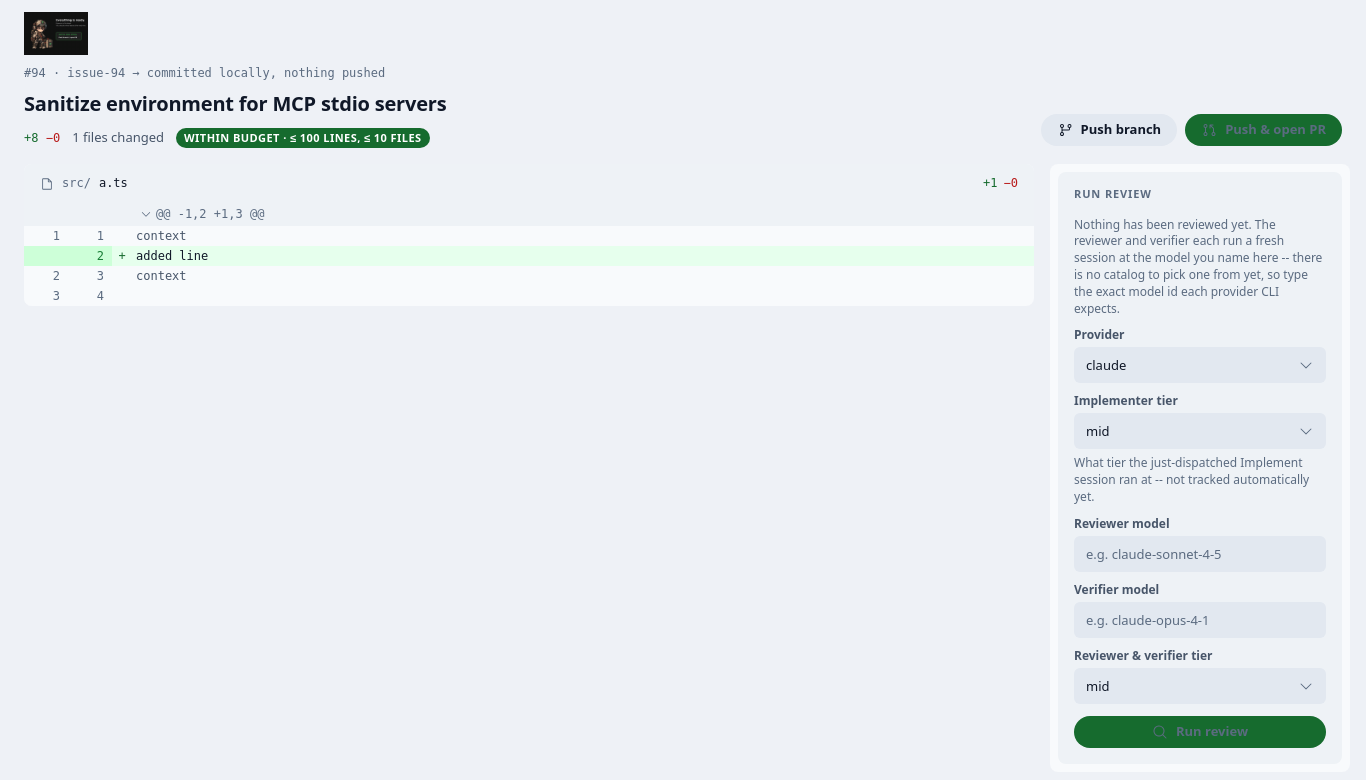
DiffReviewScreen › a real "Run review" click sends a real reviewPipenzo request built from human-typed model fields, and renders the real report in RailPanel
Expected: the text "Sanitize environment for MCP stdio servers" is shown, [24, 91, 446, 116]
Expected: the button "Run review" is disabled, [1074, 716, 1326, 748]
Type "claude-sonnet-4-5" into the field labelled "Reviewer model".
click(1200, 554); type("claude-sonnet-4-5")  # box [1074, 536, 1326, 572]
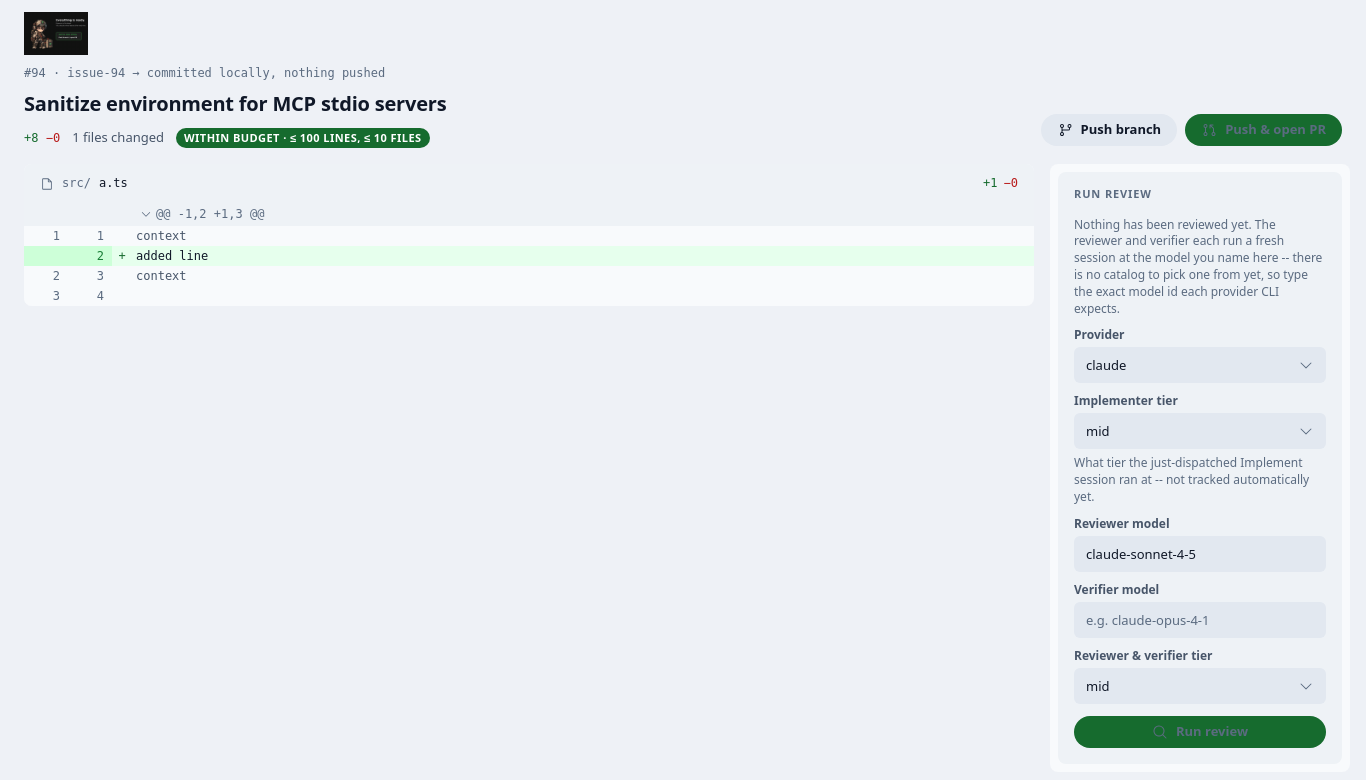
Type "claude-opus-4-1" into the field labelled "Verifier model".
click(1200, 620); type("claude-opus-4-1")  # box [1074, 602, 1326, 638]
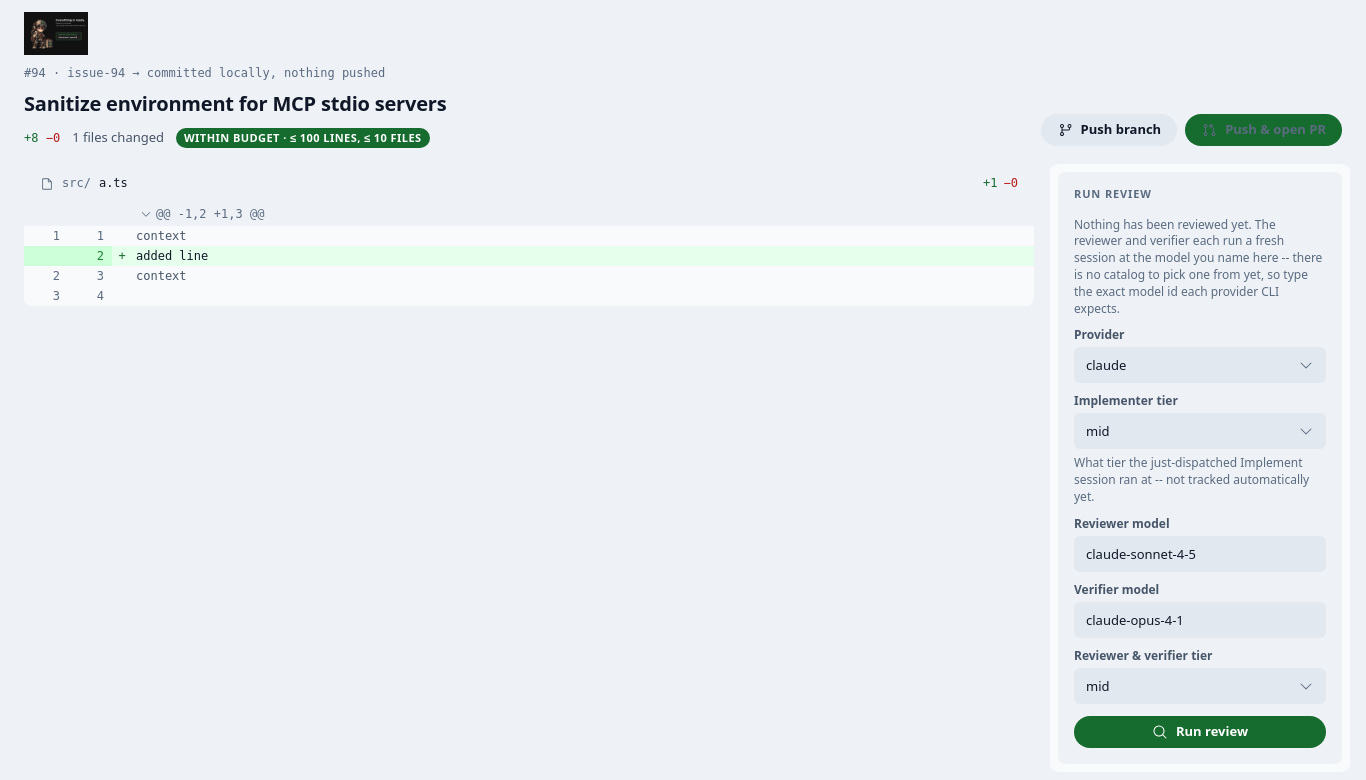
Now the button "Run review" is enabled
Click the button "Run review".
click(1200, 732)  # box [1074, 716, 1326, 748]
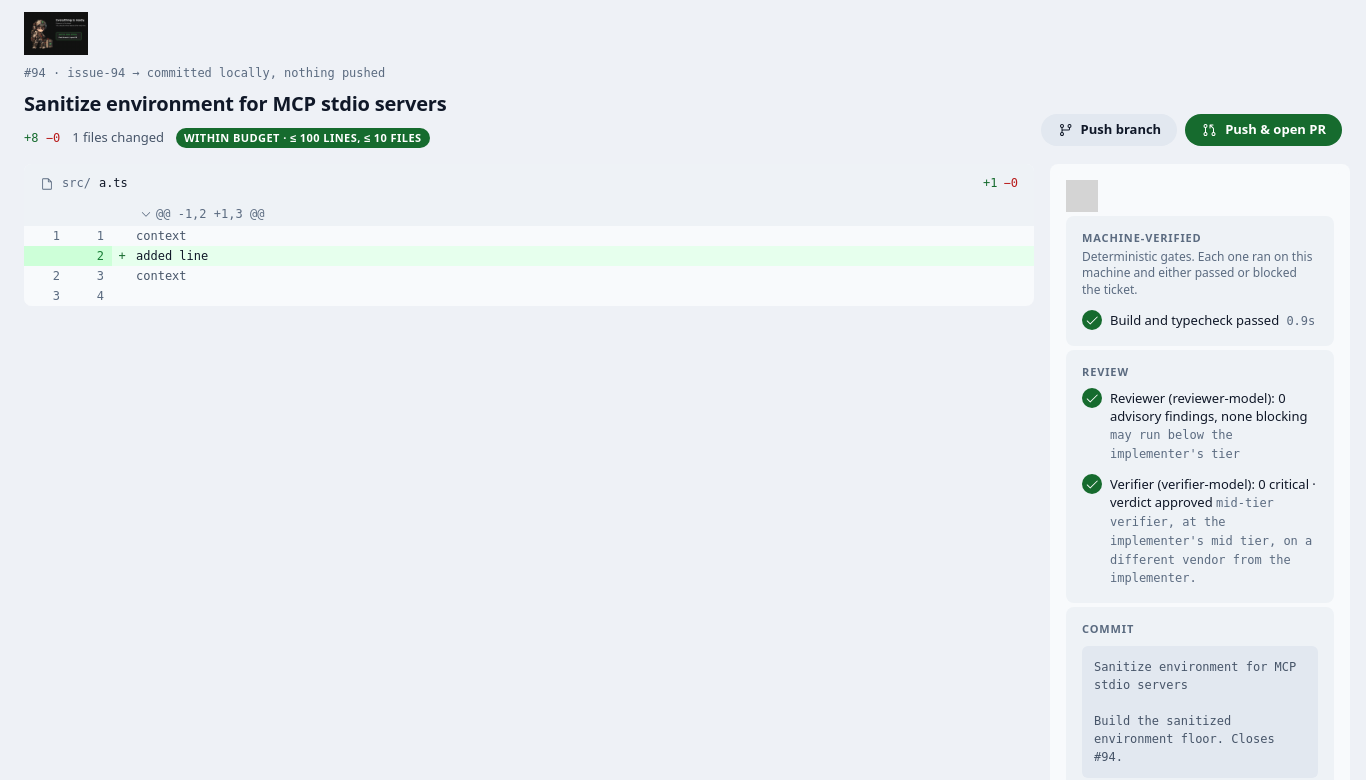
Now the text "Build and typecheck passed" is shown, box [1110, 311, 1279, 329]
Now the button "Push & open PR" is enabled, box [1185, 114, 1342, 146]
